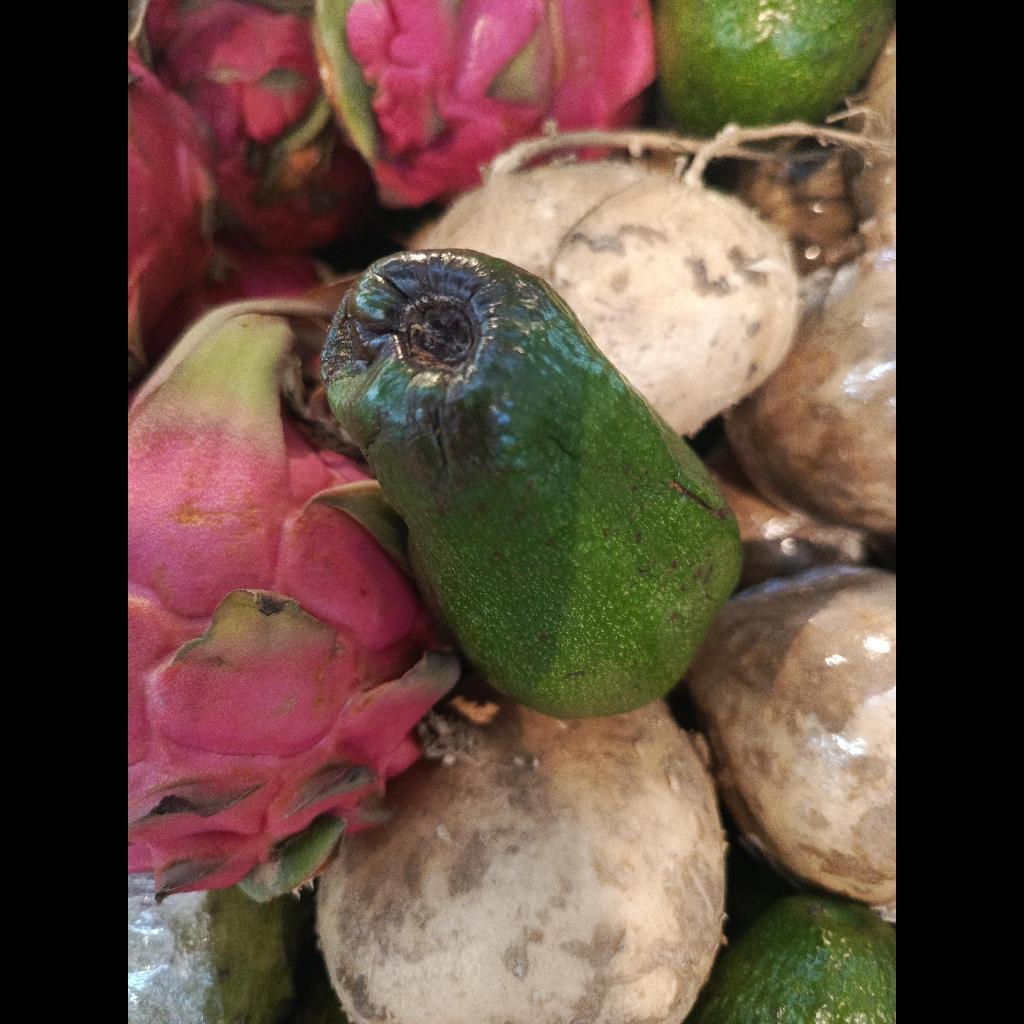pudricion_peduncular: (321, 250, 741, 718)
